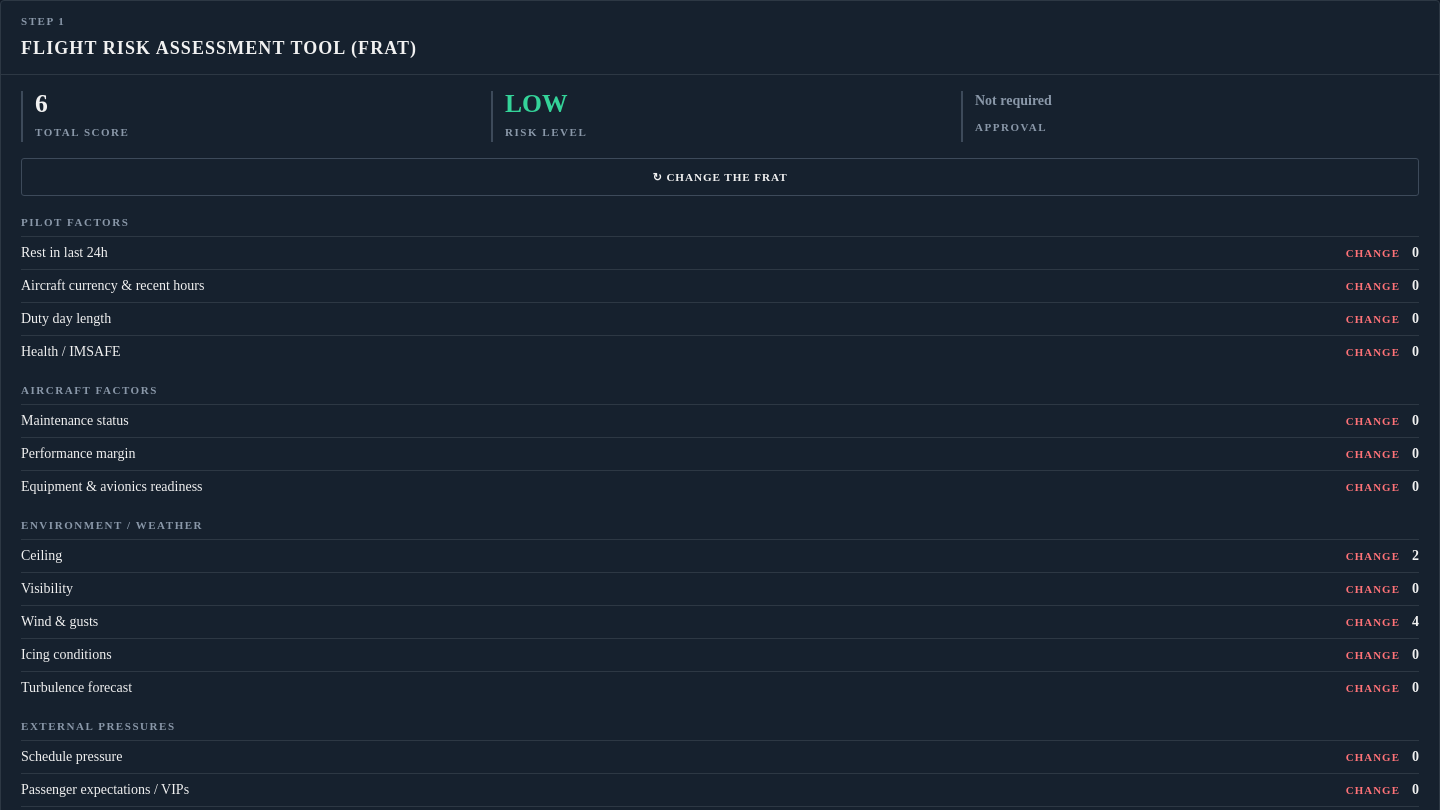
Scenario: the FRAT dispatch scored, in the pilot's preflight (#175) › can keep the FRAT as it is
Click the button "↻ Change the FRAT" at (720, 177), box [21, 158, 1419, 196]
(page scrolled)
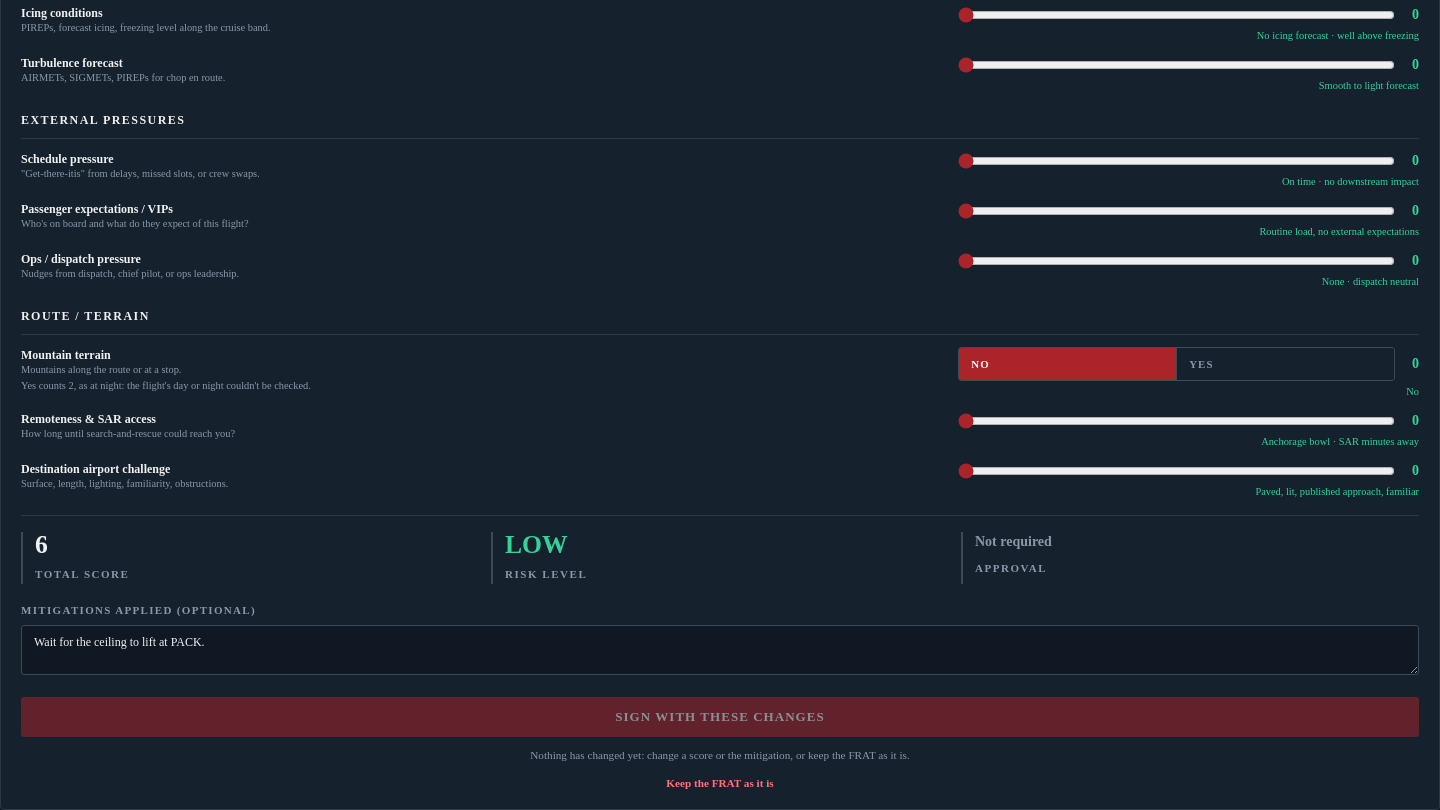
Click the button "Keep the FRAT as it is" at (720, 783), box [21, 773, 1419, 793]
(page scrolled)
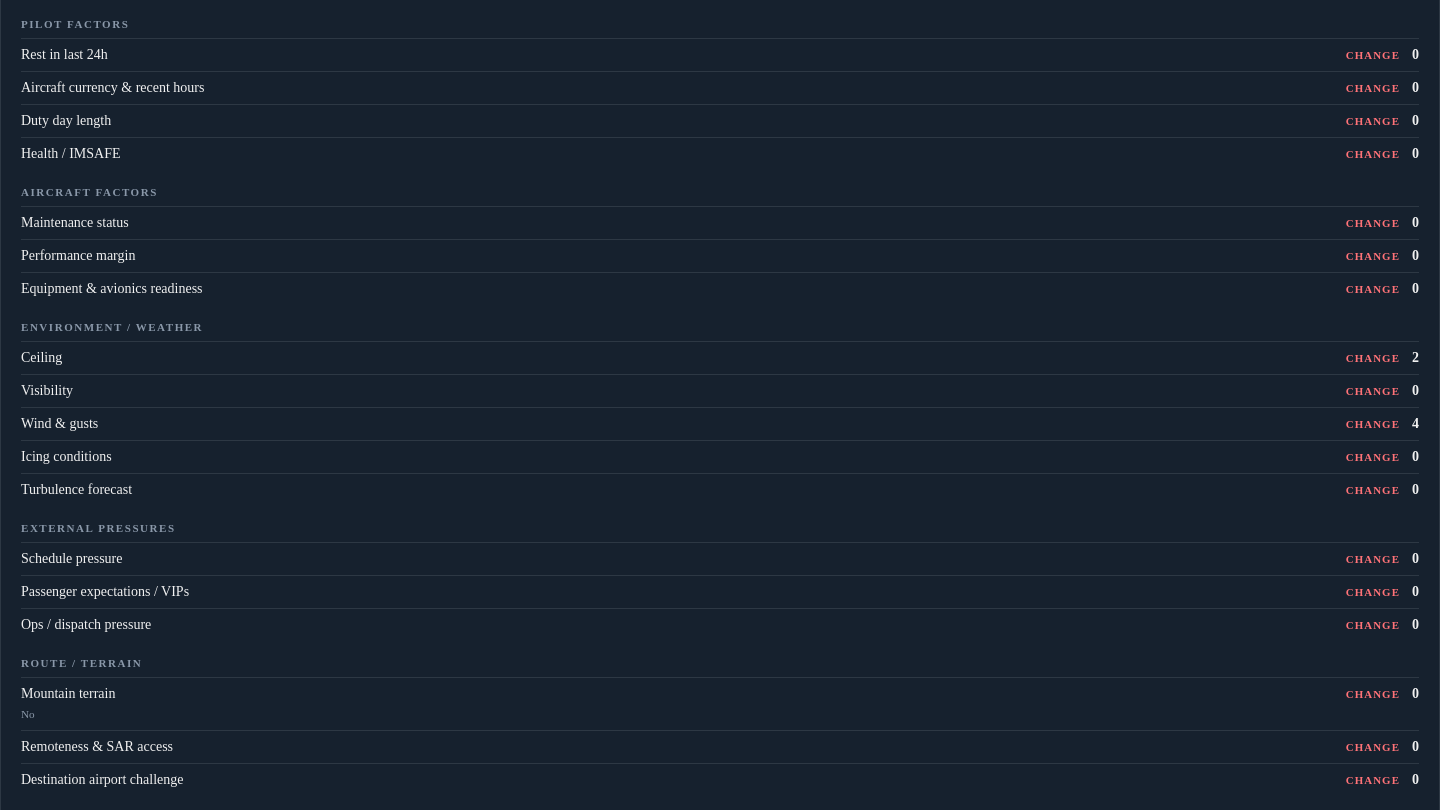
Check: the element named "Each factor's score" is shown
